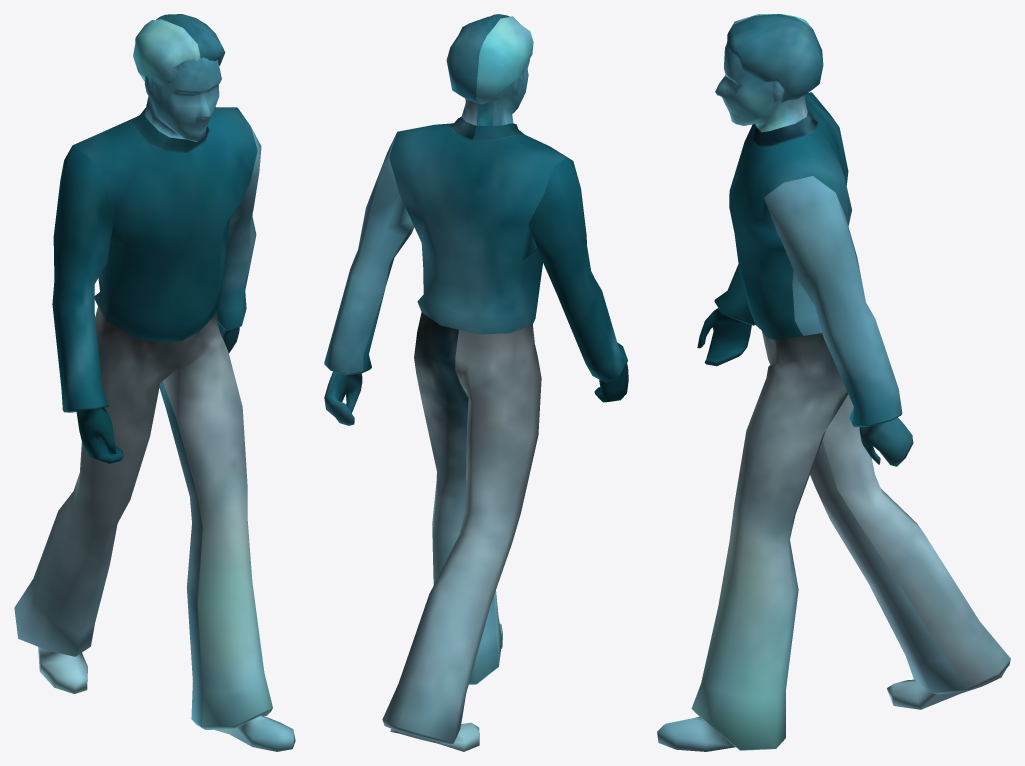
Rendered from simpleMan02.obj.
3 views of the same model, side by side, from view 1: azimuth 30°, elevation 25°; view 2: azimuth 150°, elevation 25°; view 3: azimuth 270°, elevation 25° (orthographic). The views are drawn at different scales.
Visible parts, largest first — view 1: uomo; view 2: uomo; view 3: uomo.
Boxes of the visible parts, x1,y1,x2,y2 form: uomo: (14,14,295,751); uomo: (324,14,628,751); uomo: (657,14,1010,751).
Size of the model in its own units: 1.76 by 4.92 by 2.23.
